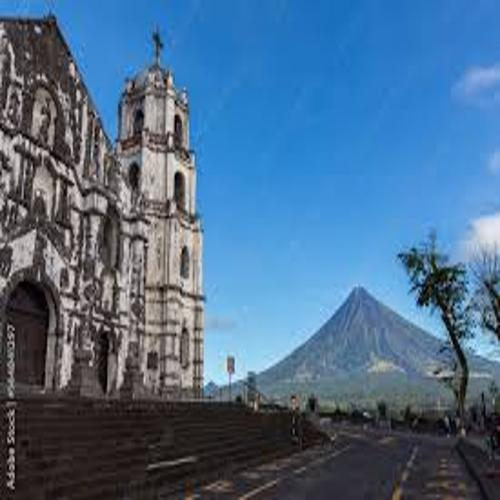Daraga Church: (2, 8, 206, 405)
